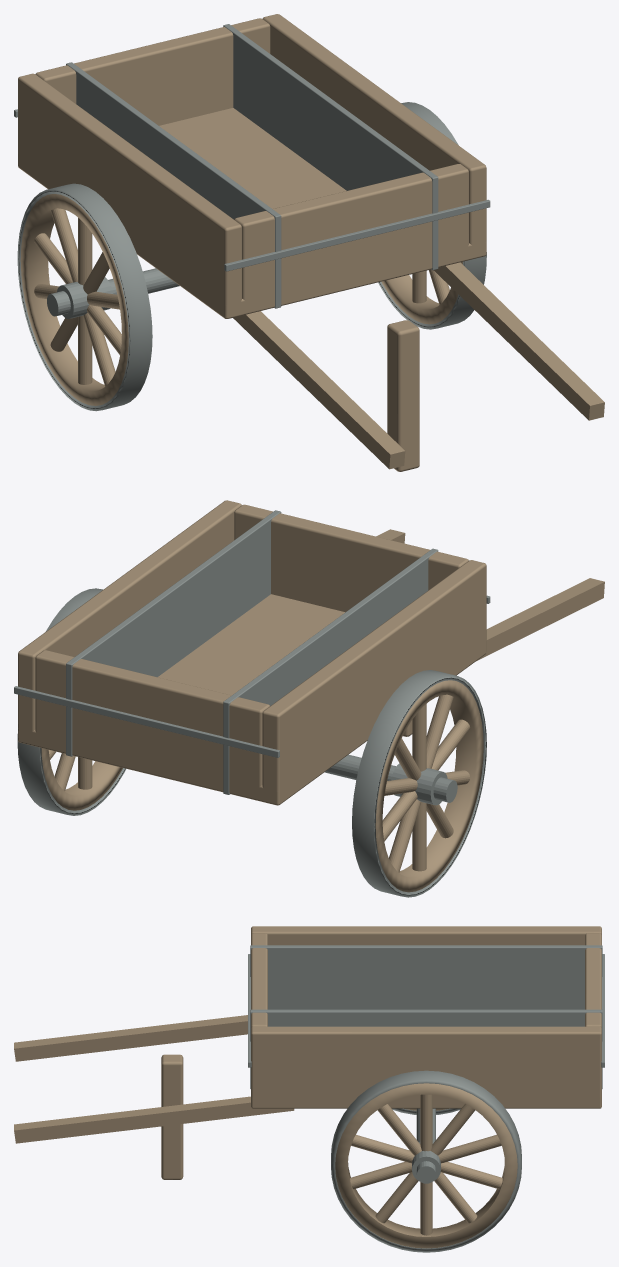
The model's file is coastal-saltworks-and-trade-port-coastal-saltworks-and-524b04ae__31402.glb.
3 renders of one model, top to bottom at view 1: azimuth 30°, elevation 25°; view 2: azimuth 150°, elevation 25°; view 3: azimuth 270°, elevation 25°, orthographic. The views are drawn at different scales.
Visible parts, largest first — view 1: coastal-saltworks-and-trade-port-two-wheel-salt-cart; view 2: coastal-saltworks-and-trade-port-two-wheel-salt-cart; view 3: coastal-saltworks-and-trade-port-two-wheel-salt-cart.
Boxes of the visible parts, x1,y1,x2,y2 form: coastal-saltworks-and-trade-port-two-wheel-salt-cart: [14, 14, 604, 471]; coastal-saltworks-and-trade-port-two-wheel-salt-cart: [14, 500, 604, 897]; coastal-saltworks-and-trade-port-two-wheel-salt-cart: [14, 926, 604, 1252].
Bounding box in the file's own units: 1.6 × 0.9179 × 2.44.
